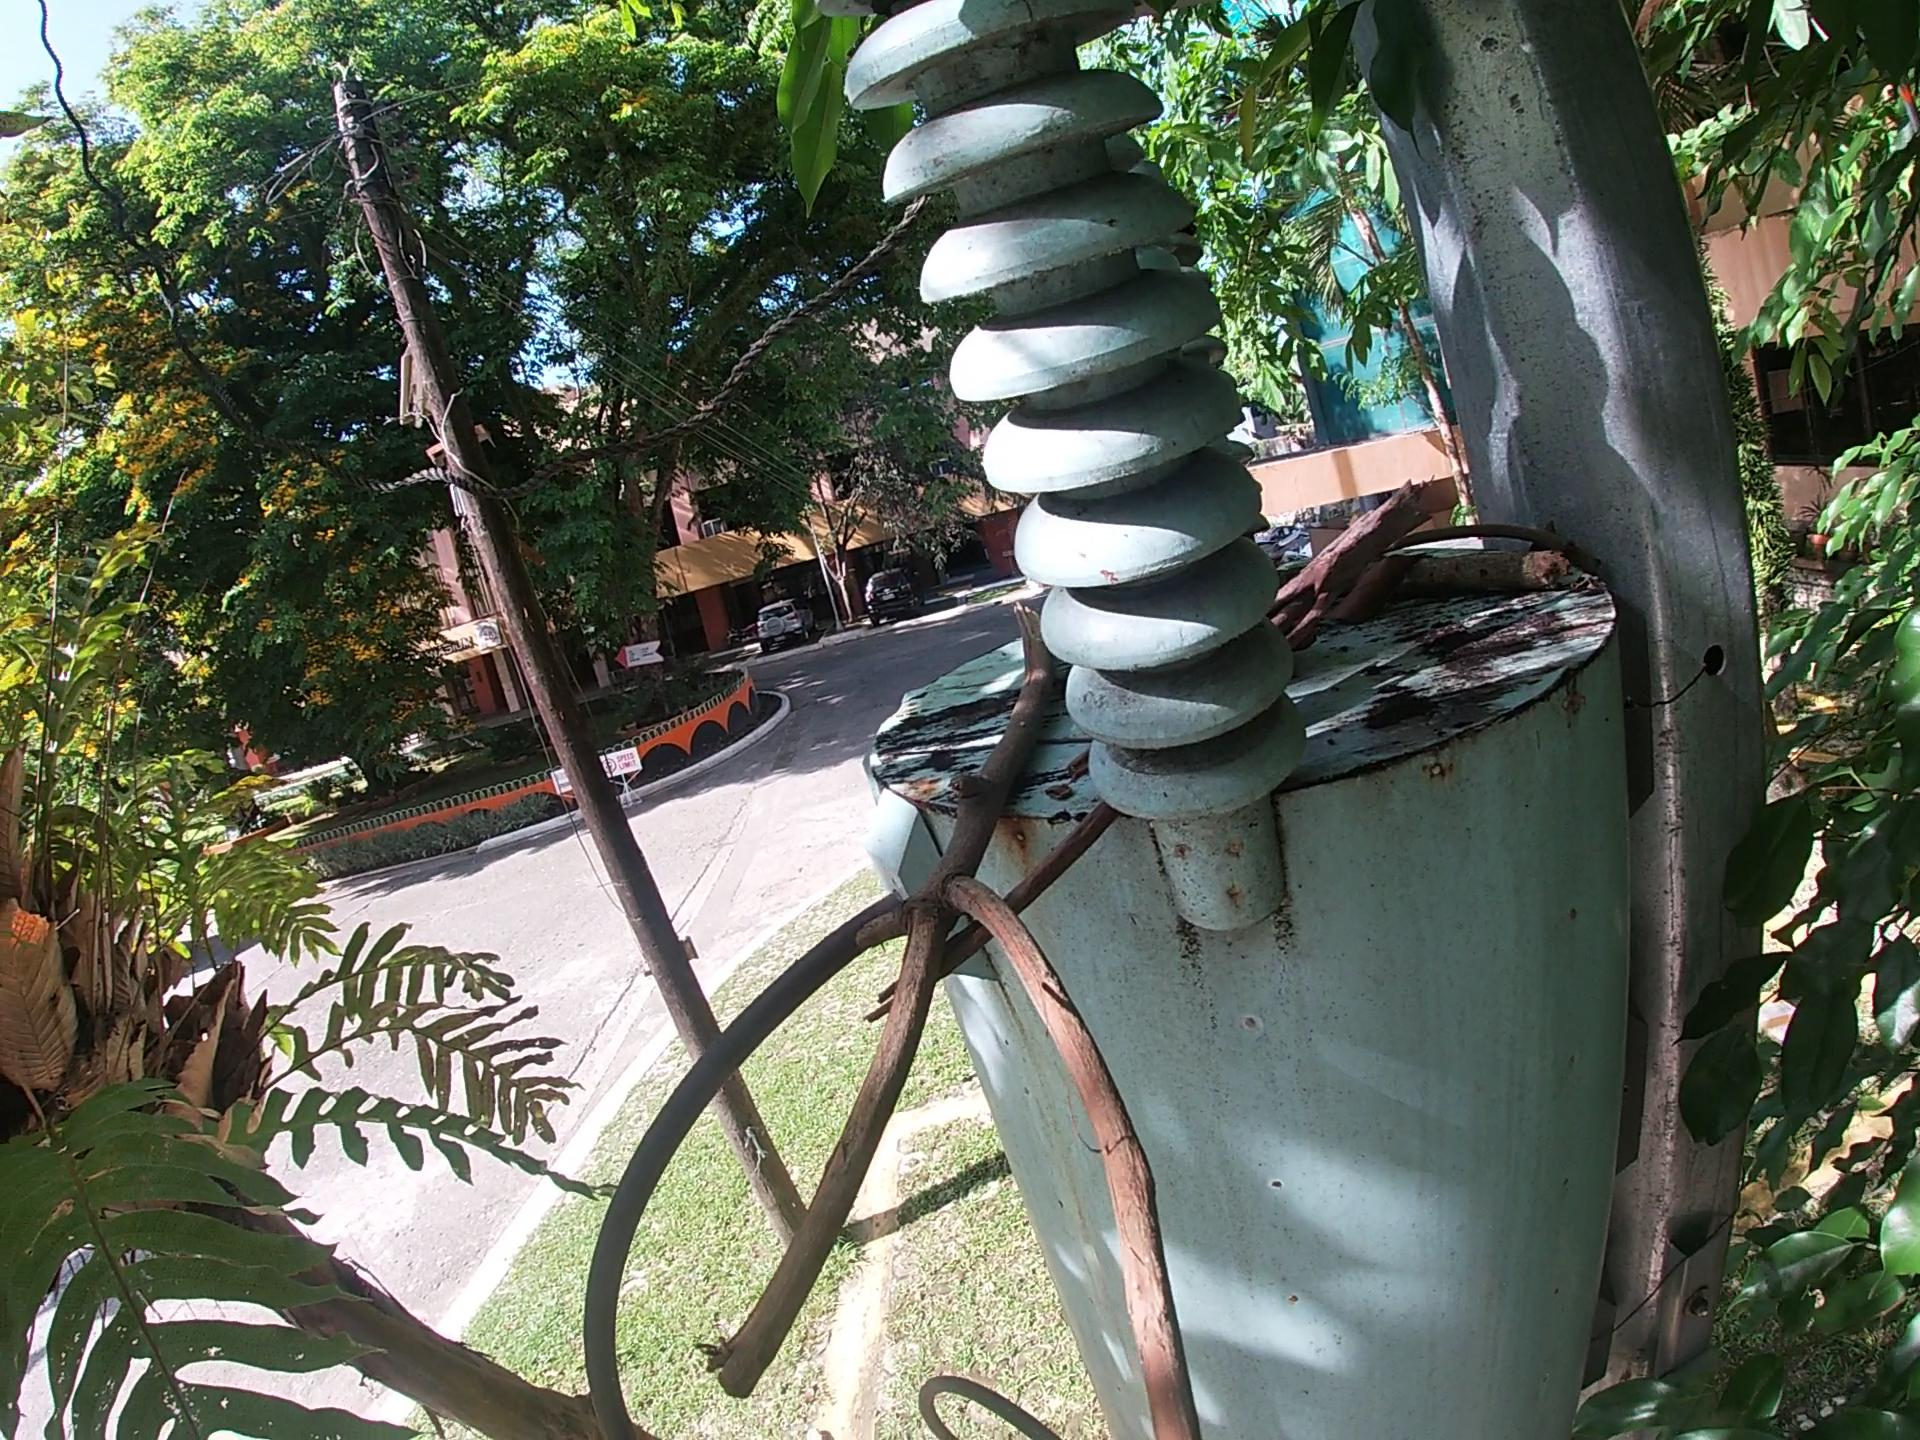leaf: (1330, 548, 1426, 629)
tree branch: (683, 587, 1220, 1438), (866, 799, 1128, 1026), (1258, 475, 1439, 659), (1377, 545, 1569, 610), (1383, 516, 1580, 560)
